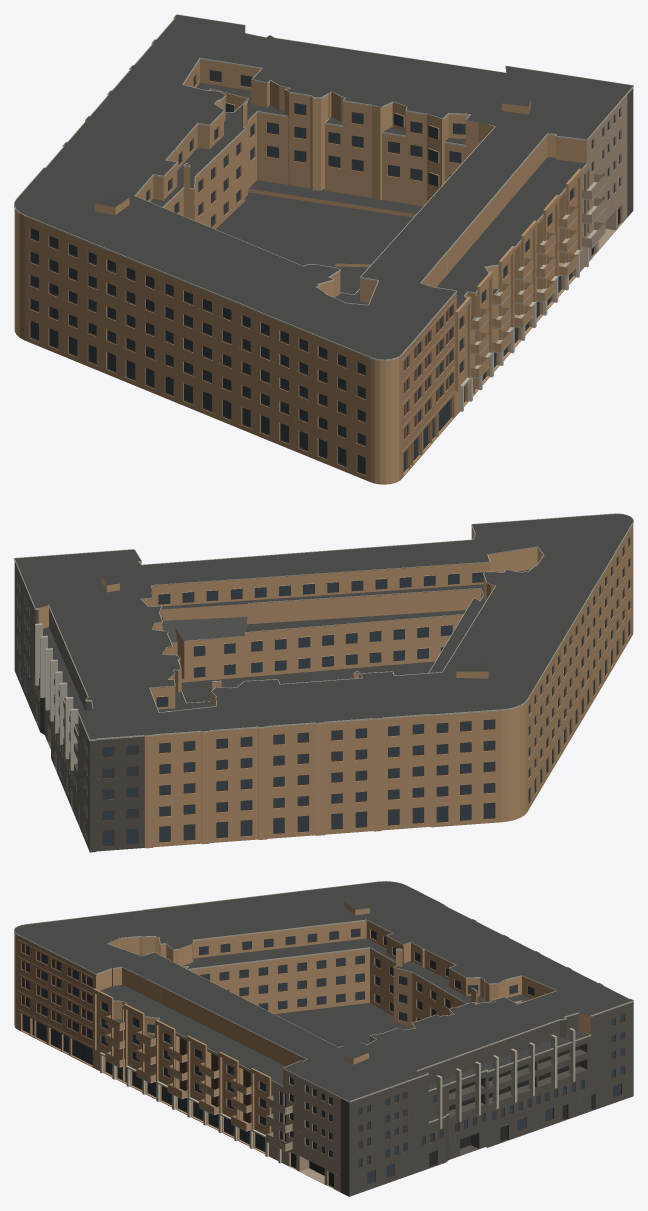
Rendered from revaleiland-121.glb.
3 views of the same model, one above another, from view 1: azimuth 30°, elevation 25°; view 2: azimuth 150°, elevation 25°; view 3: azimuth 270°, elevation 25° (orthographic). The views are drawn at different scales.
Visible parts, largest first — view 1: revaleiland-121; view 2: revaleiland-121; view 3: revaleiland-121.
Part boxes in pixels (<box>): revaleiland-121: <box>14,14,633,484</box>; revaleiland-121: <box>14,513,633,852</box>; revaleiland-121: <box>14,881,633,1196</box>.
Size of the model in its own units: 82.87 by 17.84 by 98.63.
